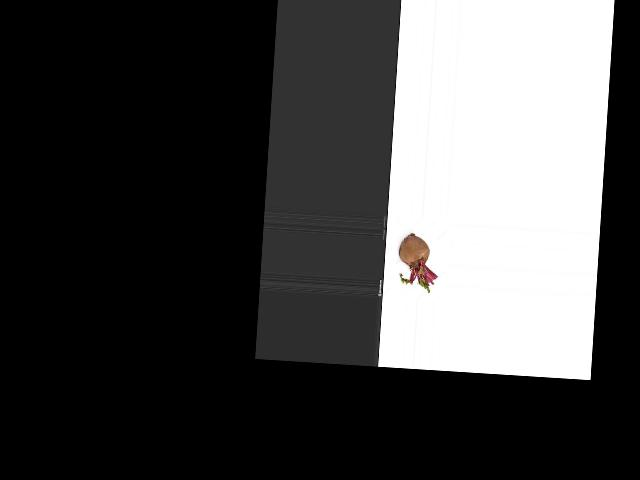beet: (396, 232, 440, 293)
